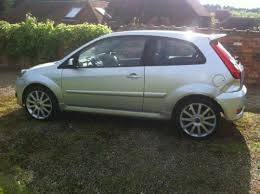Dent: (217, 78, 244, 112)
